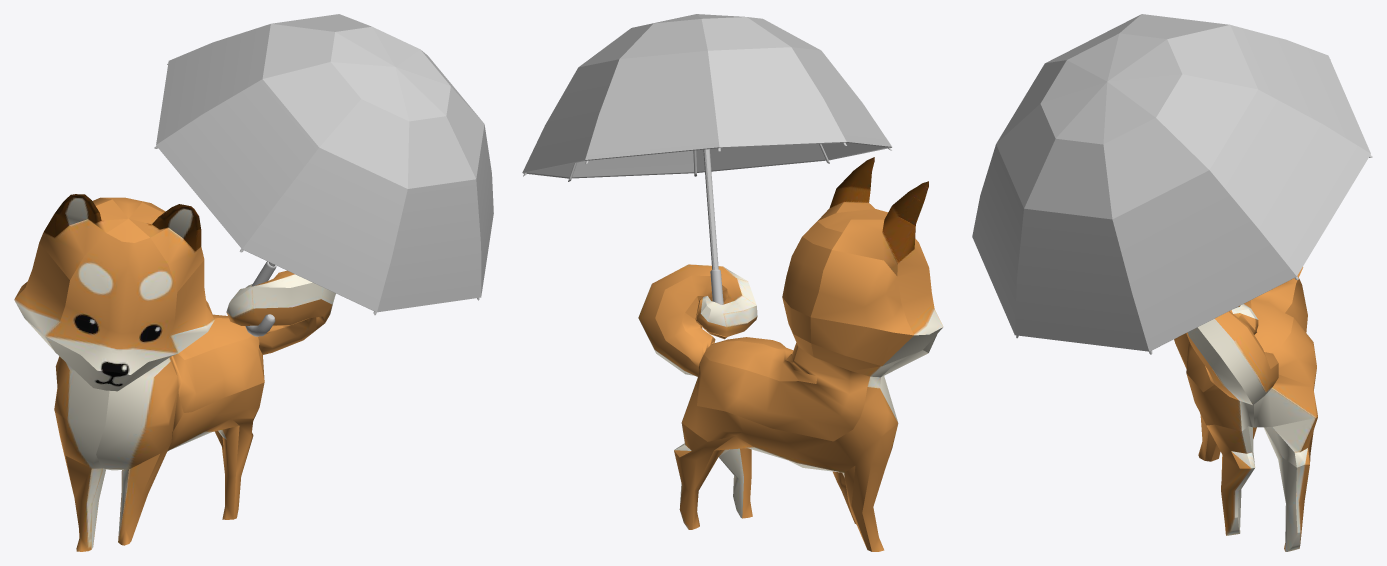
File: umbrella_Frame20.obj
The picture shows the model from 3 angles, left to right: view 1: azimuth 30°, elevation 25°; view 2: azimuth 150°, elevation 25°; view 3: azimuth 270°, elevation 25°; orthographic projection. The views are drawn at different scales.
Parts seen in each view (by area): view 1: Regenschirm:pTorus6, newRigging:BodzL1; view 2: newRigging:BodzL1, Regenschirm:pTorus6; view 3: Regenschirm:pTorus6, newRigging:BodzL1.
Boxes of the visible parts, box(x1,y1,x2,y2) form: Regenschirm:pTorus6: box(154, 14, 493, 336); newRigging:BodzL1: box(14, 194, 335, 551); newRigging:BodzL1: box(638, 157, 943, 551); Regenschirm:pTorus6: box(522, 14, 891, 304); Regenschirm:pTorus6: box(972, 14, 1372, 354); newRigging:BodzL1: box(1174, 267, 1317, 551).
Size of the model in its own units: 9.48 by 10.37 by 7.03.
